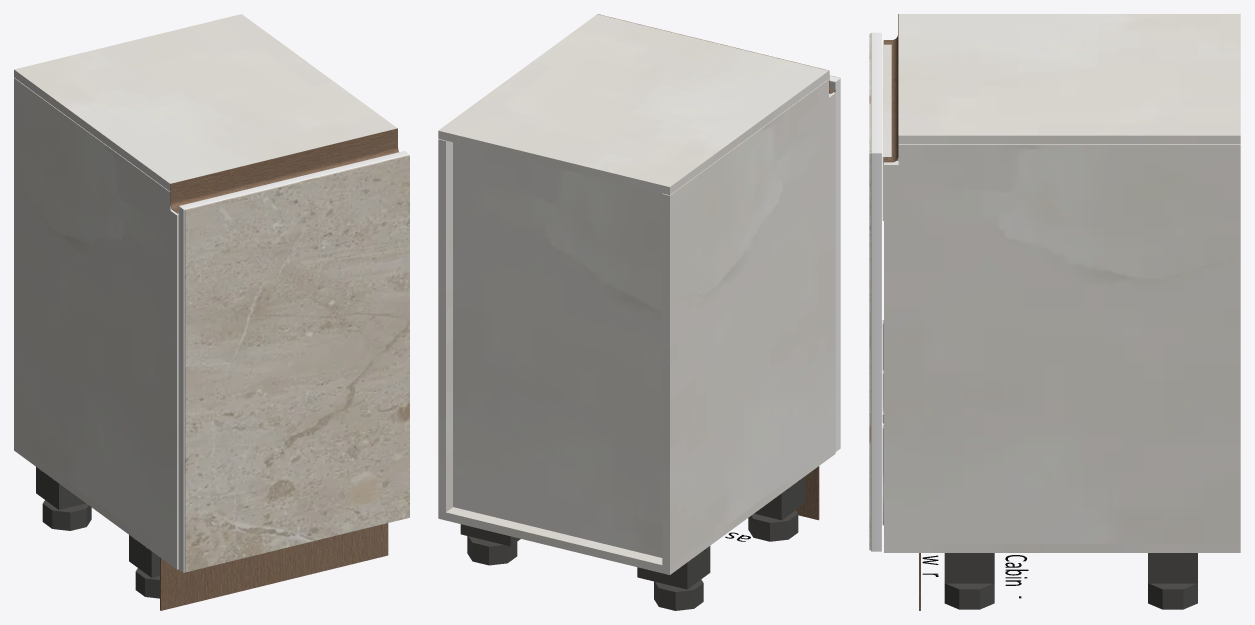
The picture shows the model from 3 angles, left to right: view 1: azimuth 30°, elevation 25°; view 2: azimuth 150°, elevation 25°; view 3: azimuth 270°, elevation 25°; orthographic projection. The views are drawn at different scales.
Size of what is drawn, in the model's own units: 0.45 by 0.82 by 0.5809.
8 materials, 3 textured.
